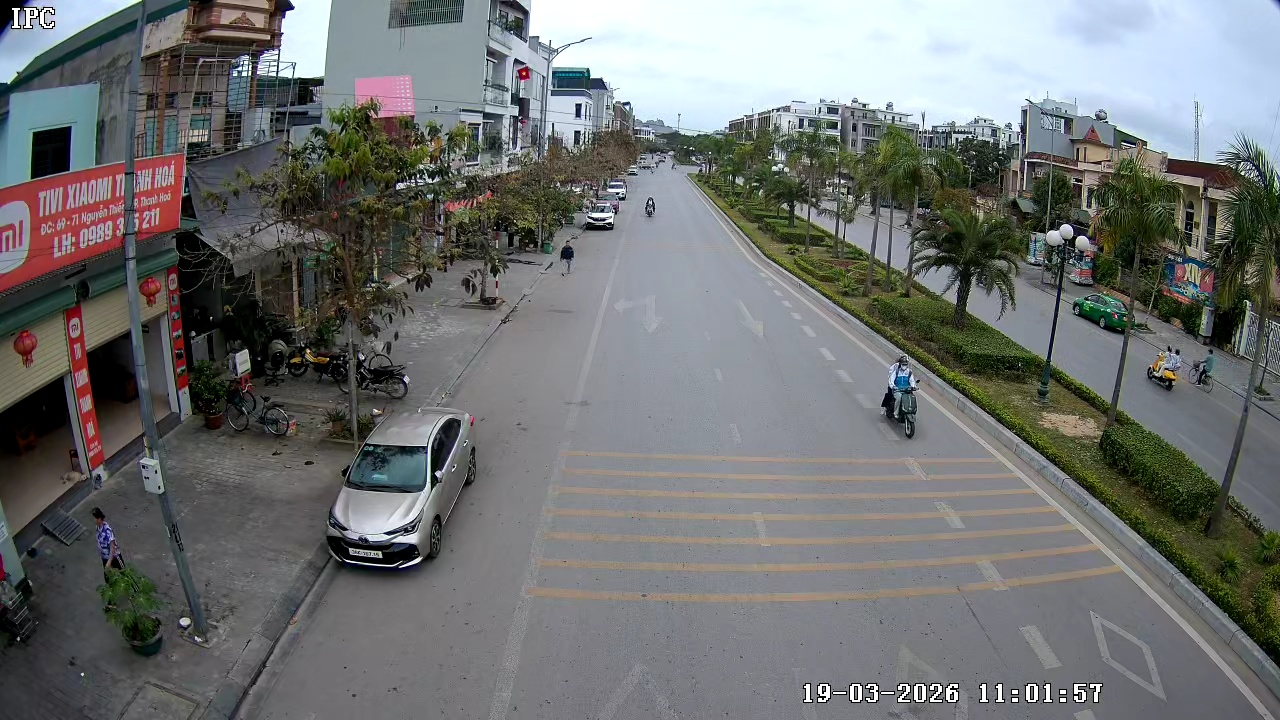car: (325, 406, 478, 571), (582, 200, 617, 231)
motorbike: (880, 355, 922, 439), (355, 337, 411, 400), (1146, 343, 1183, 393), (559, 243, 575, 275), (643, 193, 659, 218)
